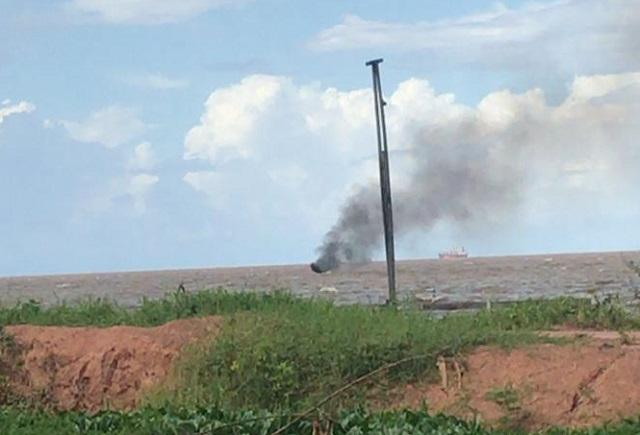smoke: (418, 158, 522, 217), (330, 211, 384, 252)
